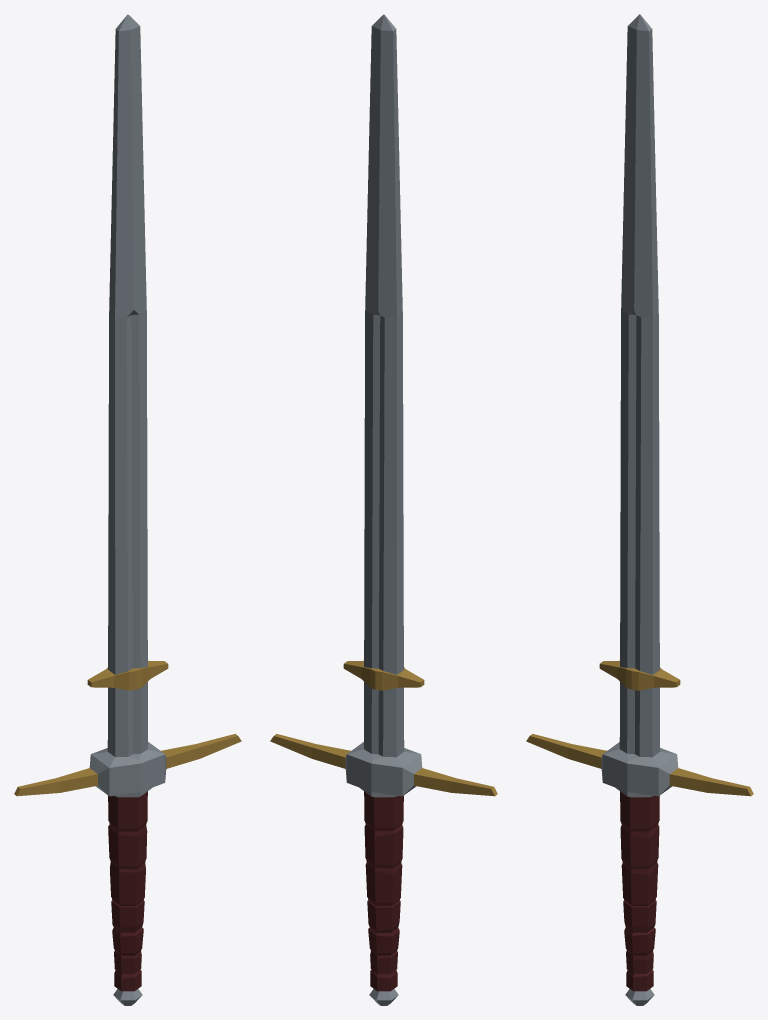
Rendered from TwoHandedSword_B.glb.
3 views of the same model, side by side, from view 1: azimuth 30°, elevation 25°; view 2: azimuth 150°, elevation 25°; view 3: azimuth 330°, elevation 25° (orthographic).
Parts seen in each view (by area): view 1: TwoHandedSword_B; view 2: TwoHandedSword_B; view 3: TwoHandedSword_B.
Boxes of the visible parts, bbox=[...] form: TwoHandedSword_B: bbox=[14, 14, 241, 1005]; TwoHandedSword_B: bbox=[270, 14, 497, 1005]; TwoHandedSword_B: bbox=[526, 14, 753, 1005].
Size of the model in its own units: 0.3034 by 1.28 by 0.0594.
1 material, 1 textured.
